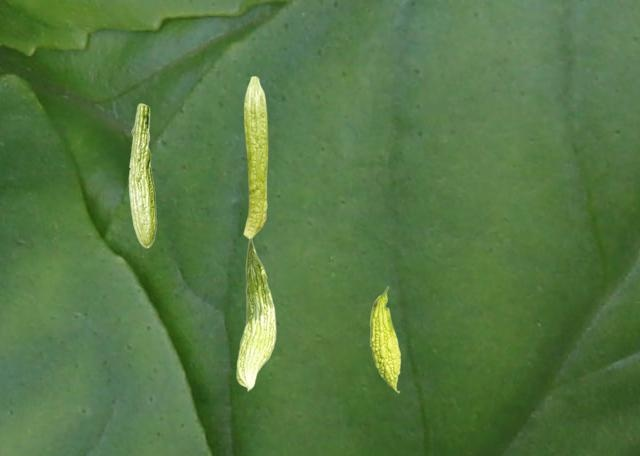ampalaya: (236, 239, 276, 392), (128, 103, 157, 248), (243, 75, 268, 239), (369, 285, 401, 394)
